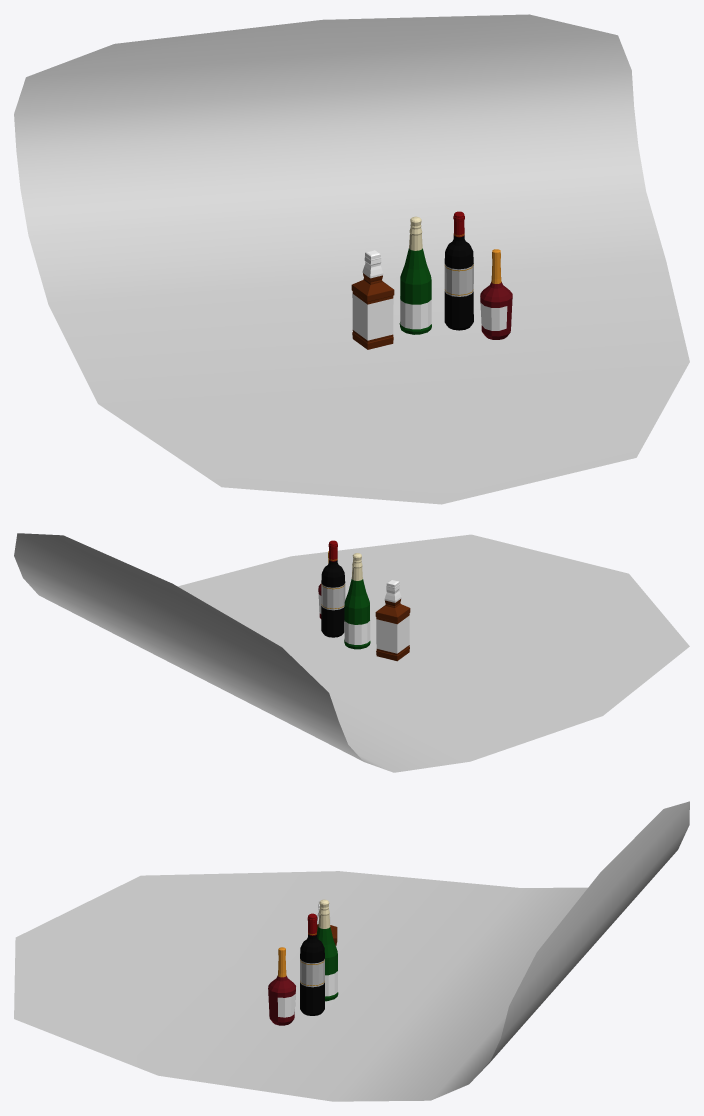
File: tavern-bottles.glb
3 views of the same model, one above another, from view 1: azimuth 30°, elevation 25°; view 2: azimuth 150°, elevation 25°; view 3: azimuth 270°, elevation 25° (orthographic). The views are drawn at different scales.
Parts seen in each view (by area): view 1: Plane.001_0, JackDaniel's_8, Wine_9, Champagne_6, Hennessy_7; view 2: Plane.001_0, JackDaniel's_8, Champagne_6, Wine_9; view 3: Plane.001_0, Wine_9, Hennessy_7, Champagne_6.
Boxes of the visible parts, box(x1,y1,x2,y2) form: Plane.001_0: box(14, 14, 689, 504); JackDaniel's_8: box(351, 250, 394, 349); Wine_9: box(444, 211, 473, 330); Champagne_6: box(399, 216, 431, 334); Hennessy_7: box(480, 249, 512, 339); Plane.001_0: box(14, 533, 689, 772); JackDaniel's_8: box(375, 579, 410, 661); Champagne_6: box(344, 553, 370, 649); Wine_9: box(321, 540, 345, 637); Plane.001_0: box(14, 801, 689, 1101); Wine_9: box(300, 913, 324, 1015); Hennessy_7: box(268, 947, 295, 1025); Champagne_6: box(317, 899, 338, 1001).
Bounding box in the file's own units: 2.31 × 0.6432 × 2.51.
